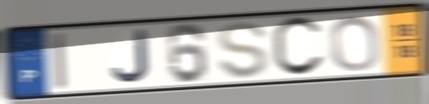6: (165, 21, 210, 87)
C: (270, 14, 328, 79)
I: (51, 29, 69, 91)
J: (110, 28, 153, 85)
O: (328, 14, 381, 73)
S: (215, 20, 271, 81)
